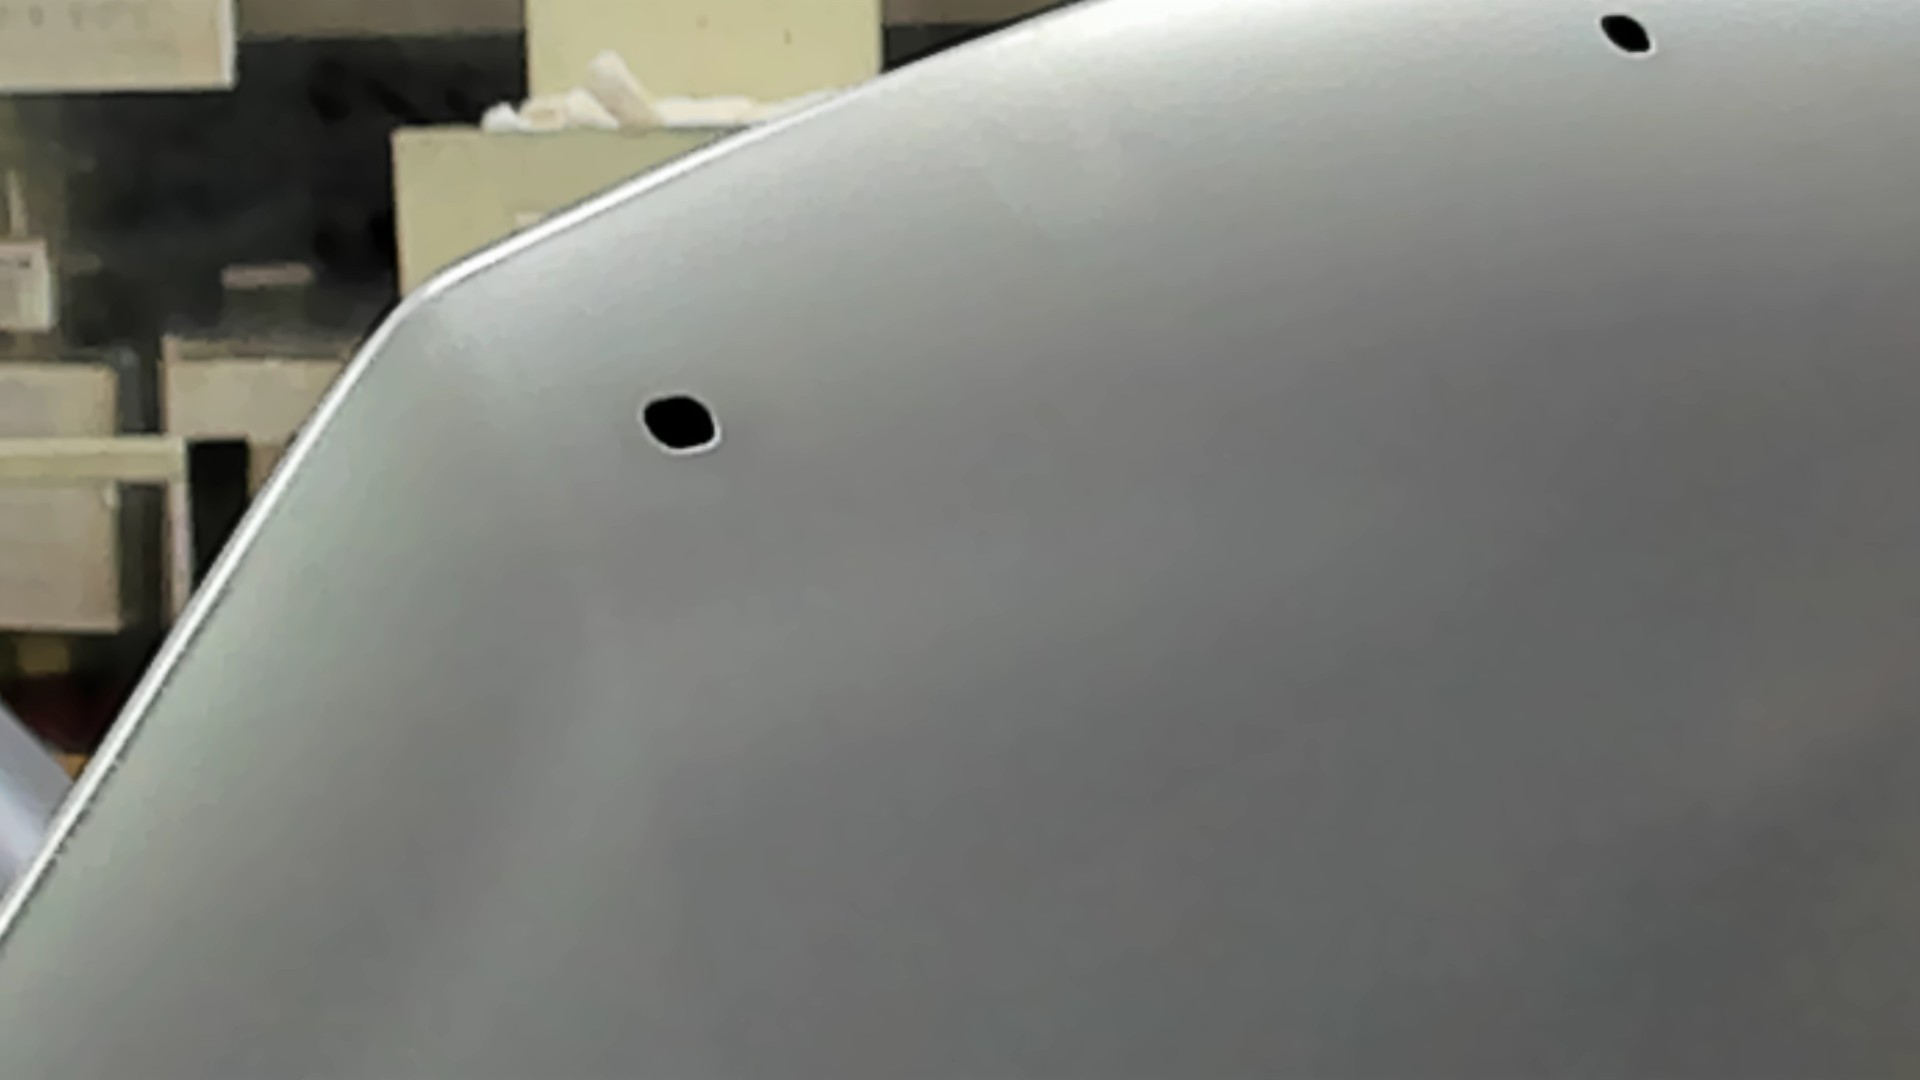amorfo: (637, 388, 721, 455), (1596, 8, 1663, 63)
